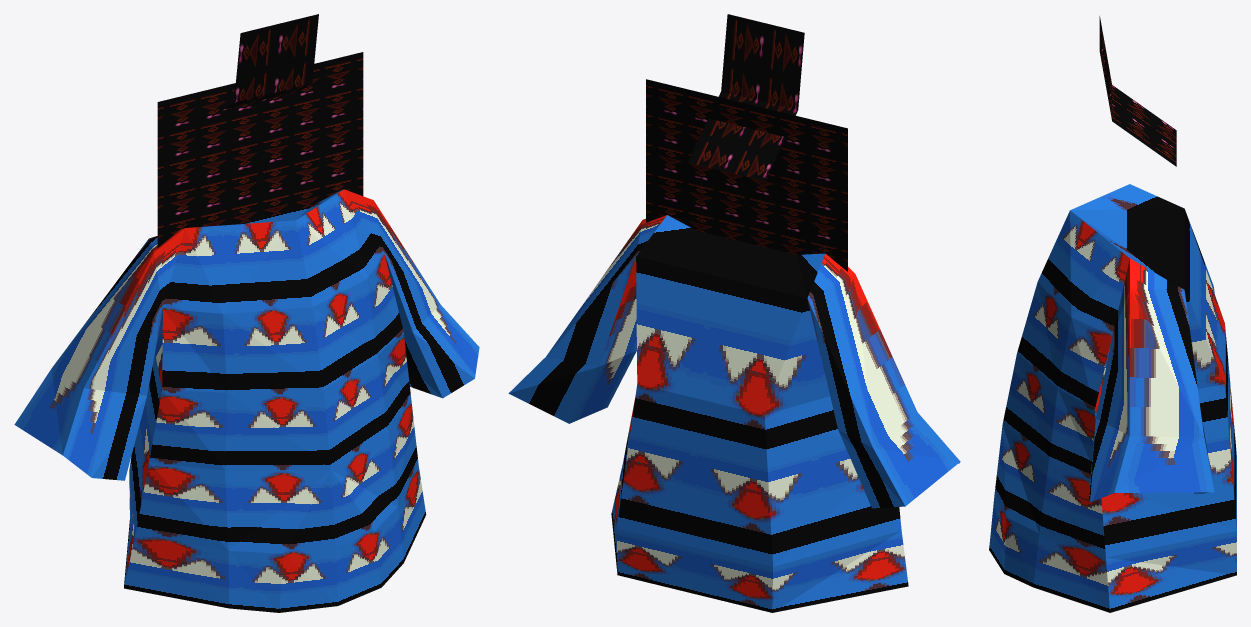
File: clo_top00.gltf
3 views of the same model, side by side, from view 1: azimuth 30°, elevation 25°; view 2: azimuth 150°, elevation 25°; view 3: azimuth 270°, elevation 25° (orthographic). The views are drawn at different scales.
Visible parts, largest first — view 1: clo_top00; view 2: clo_top00; view 3: clo_top00.
Part boxes in pixels (left/top/right/bottom): clo_top00: left=14, top=14, right=479, bottom=612; clo_top00: left=508, top=14, right=960, bottom=612; clo_top00: left=989, top=16, right=1236, bottom=612.
Bounding box in the file's own units: 0.7539 × 0.9385 × 0.4075.
Materials: 2 (2 with a texture image).
